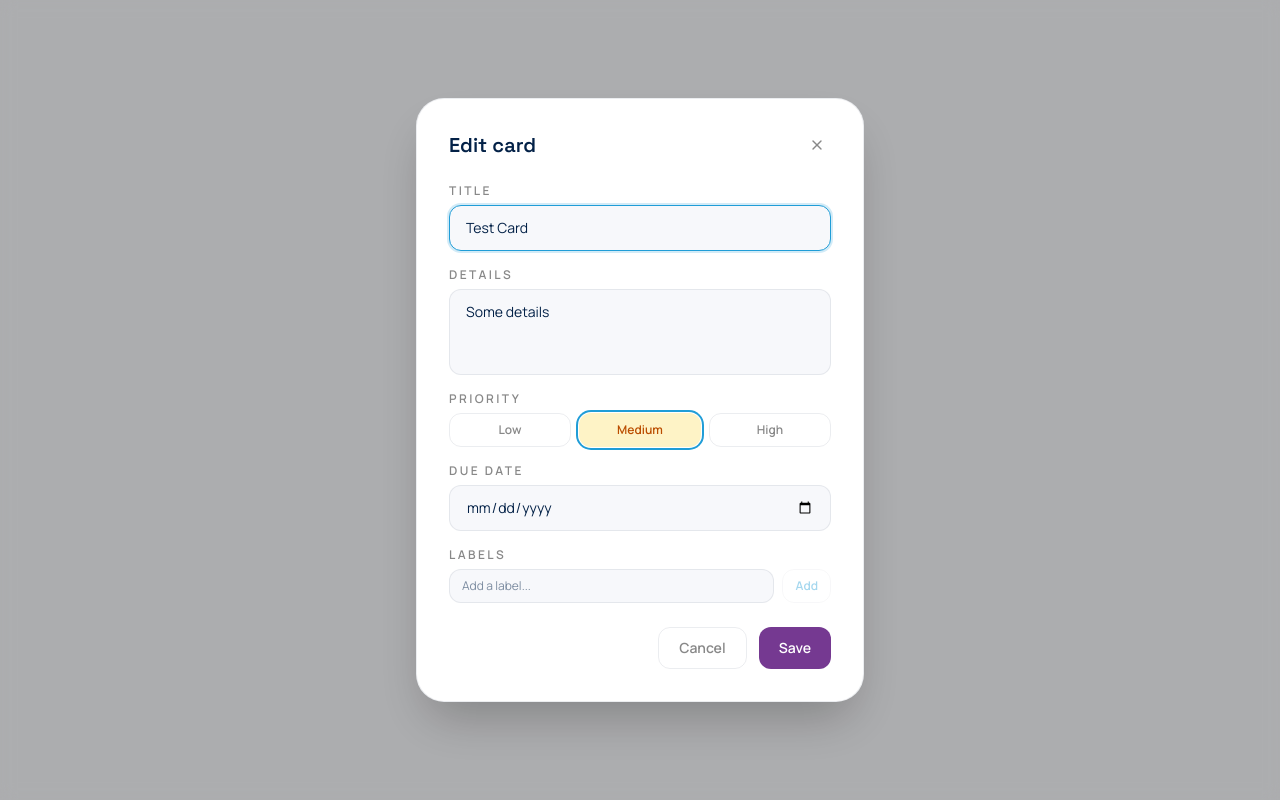
Test: CardEditModal › adds a label via Enter key
Type "feature" into the field with placeholder "Add a label...".
click(612, 586); type("feature")  # box [449,569,774,603]
Then press Enter
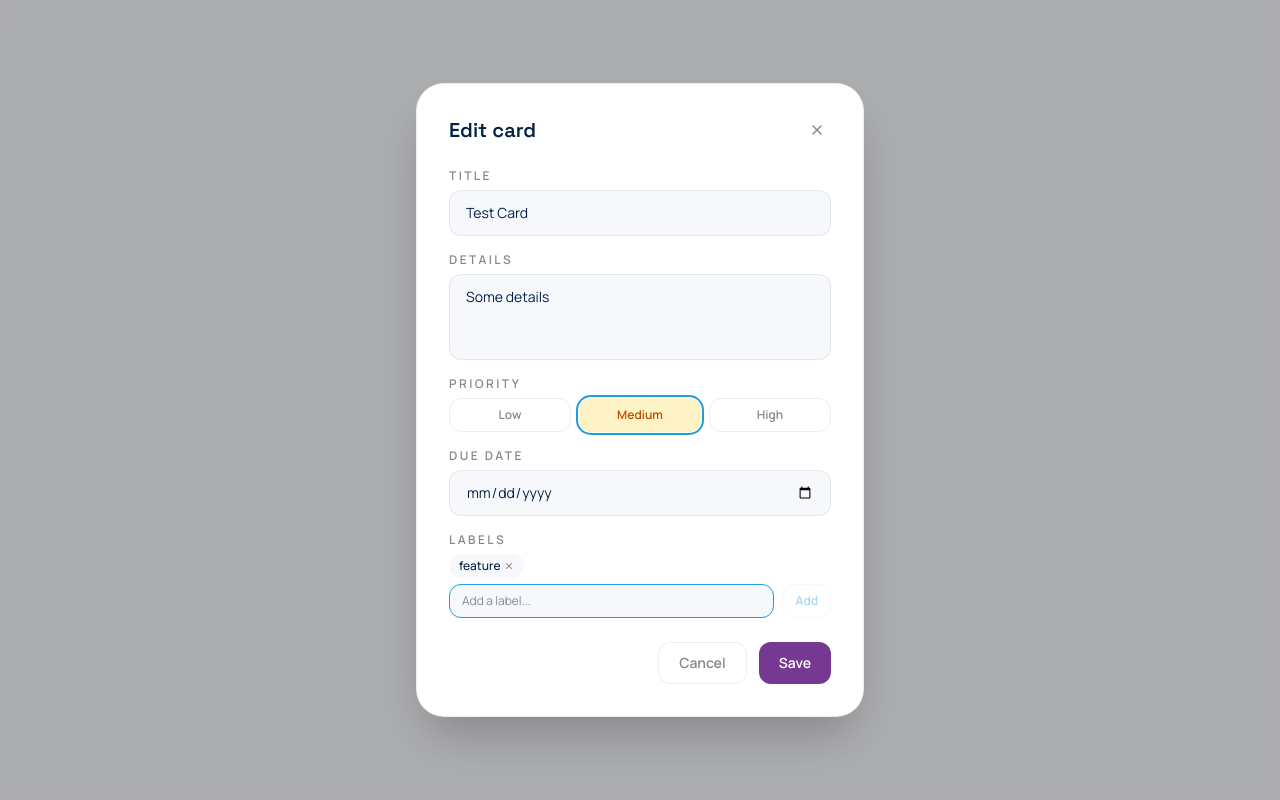
Expected: the text "feature" is shown, [449,554,524,578]
